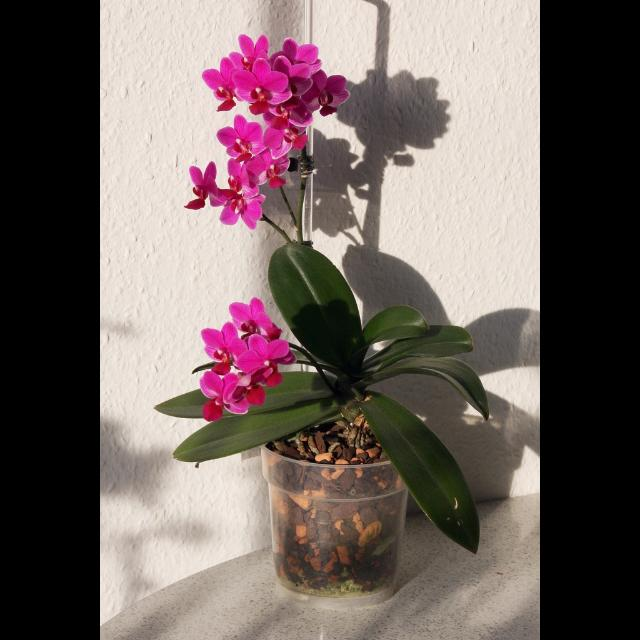Flower: (182, 32, 350, 234), (199, 296, 281, 424), (234, 332, 298, 386), (242, 326, 288, 370)
